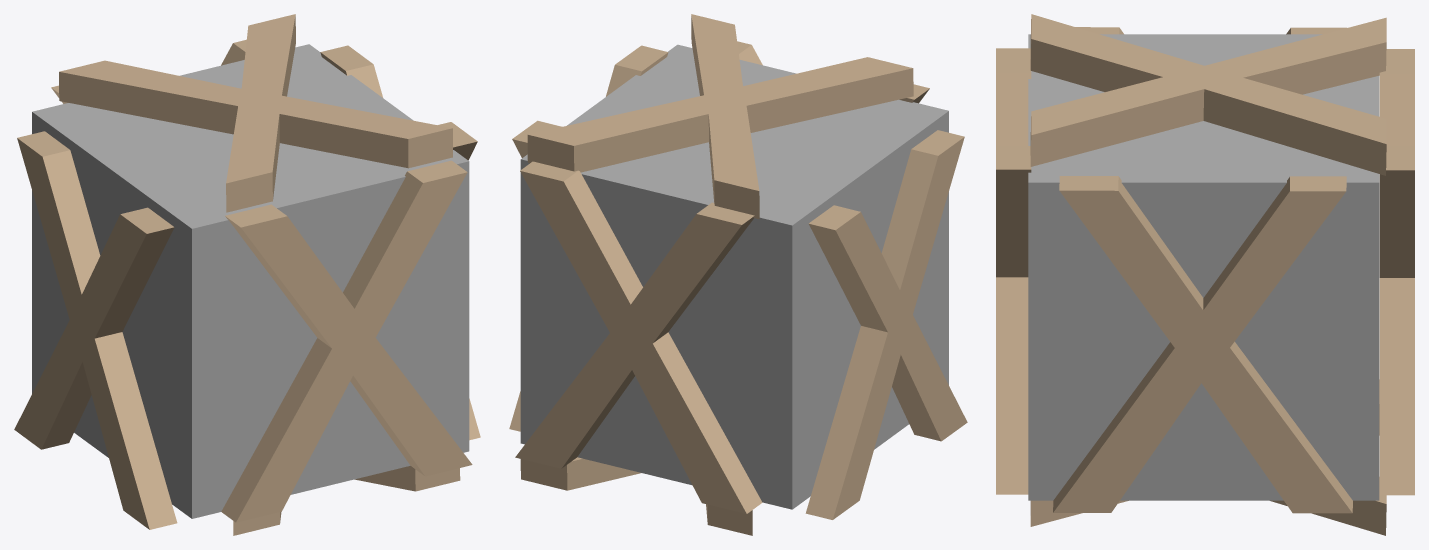
File: LetterX.fbx
3 views of the same model, side by side, from view 1: azimuth 30°, elevation 25°; view 2: azimuth 150°, elevation 25°; view 3: azimuth 270°, elevation 25° (orthographic). The views are drawn at different scales.
Visible parts, largest first — view 1: Box, Text Front, Text Left, Text Top, Text Right, Text Bottom; view 2: Box, Text Back, Text Left, Text Top, Text Bottom, Text Right, Text Front; view 3: Box, Text Right, Text Top, Text Back, Text Front, Text Bottom, Text Left.
Boxes of the visible parts, x1,y1,x2,y2 form: Box: [32, 44, 469, 518]; Text Front: [221, 160, 472, 522]; Text Left: [14, 131, 177, 529]; Text Top: [59, 14, 452, 212]; Text Right: [320, 45, 480, 440]; Text Bottom: [233, 466, 460, 535]; Box: [520, 44, 948, 509]; Text Back: [515, 161, 762, 513]; Text Left: [805, 130, 967, 519]; Text Top: [527, 14, 913, 219]; Text Bottom: [520, 457, 752, 535]; Text Right: [509, 45, 668, 431]; Text Front: [737, 41, 929, 103]; Box: [1028, 34, 1379, 500]; Text Right: [1053, 176, 1352, 513]; Text Top: [1030, 14, 1386, 175]; Text Back: [1379, 49, 1414, 495]; Text Front: [996, 48, 1031, 494]; Text Bottom: [1030, 379, 1386, 535]; Text Left: [1075, 27, 1346, 34].
Size of the model in its own units: 1.2 by 1.24 by 1.19.
